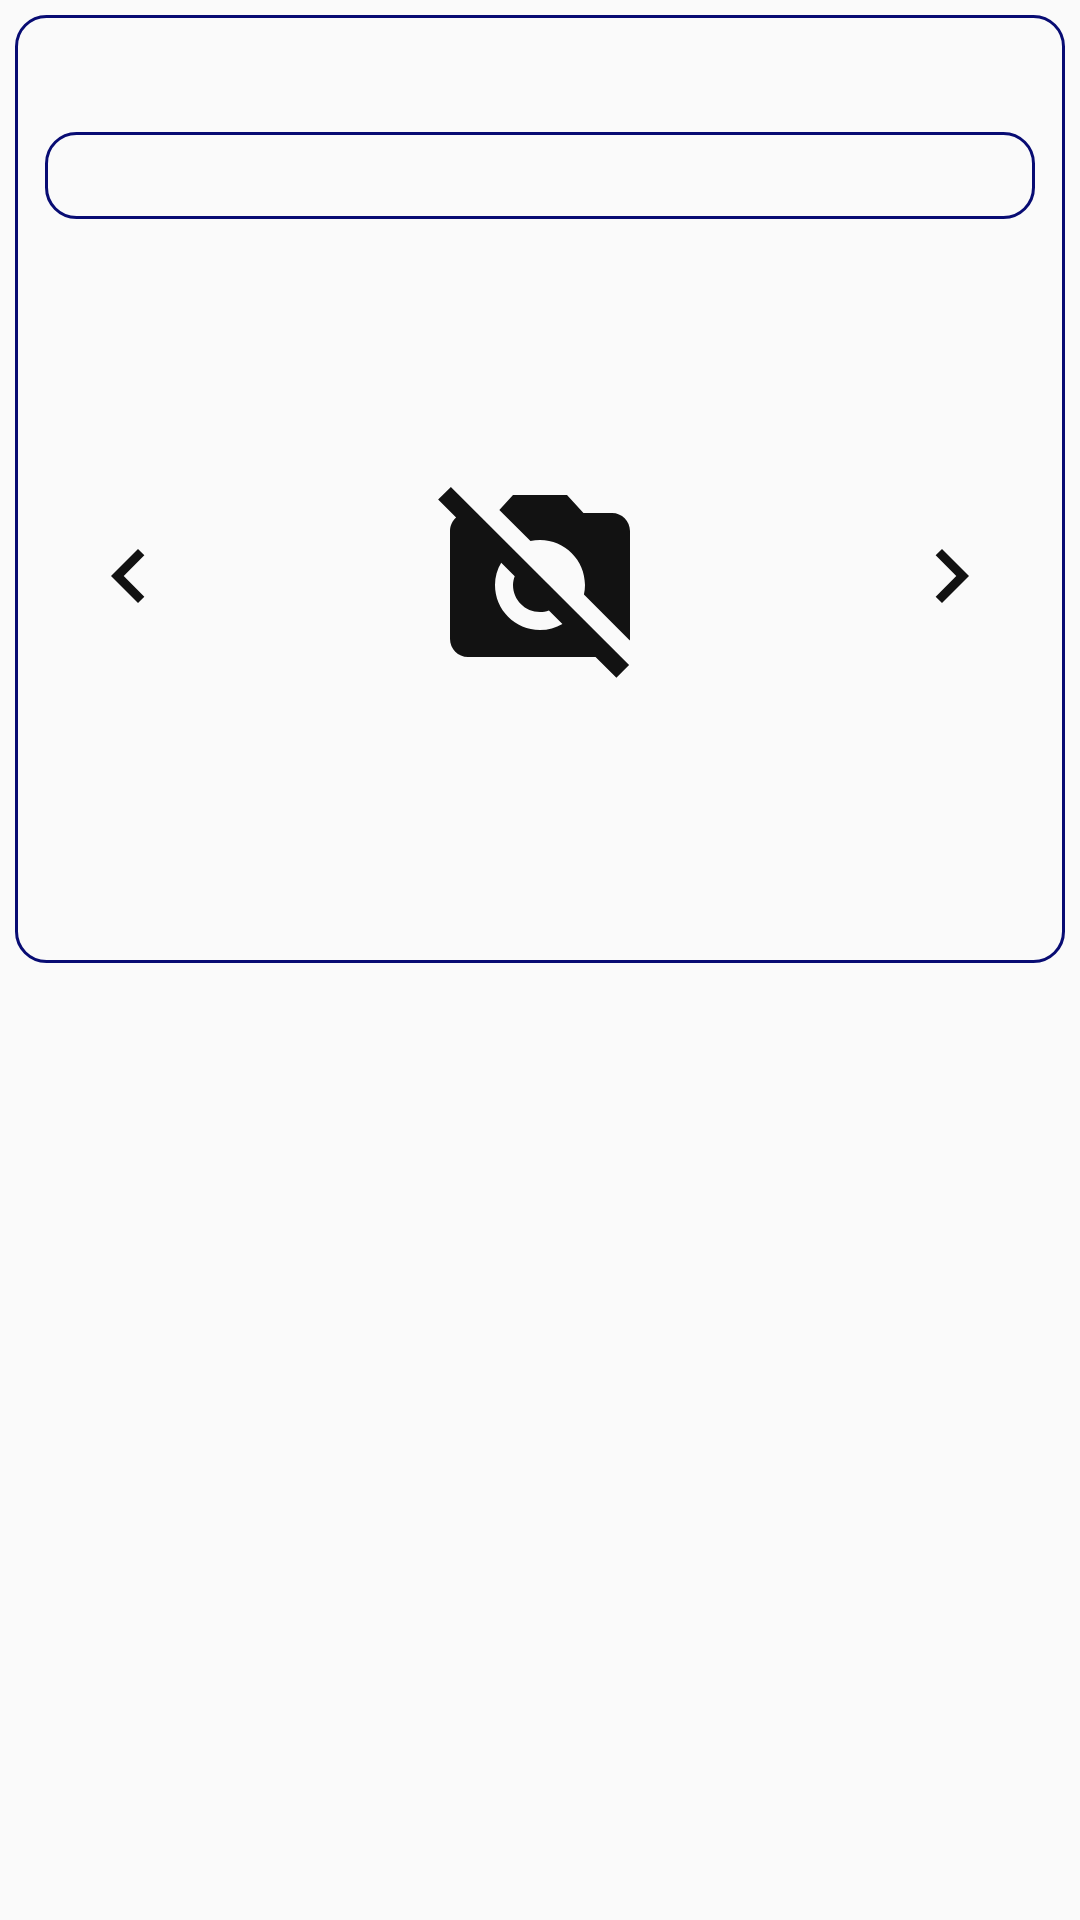

Named icons in this screenshot (1080*1920) and their bounding boxes, Rect(x1, y1, x2, y2):
Показать предыдущую фотография: Rect(111, 549, 145, 603)
Показать следующую фотографию: Rect(935, 549, 969, 603)
Текущая фотография: Rect(438, 487, 630, 678)
